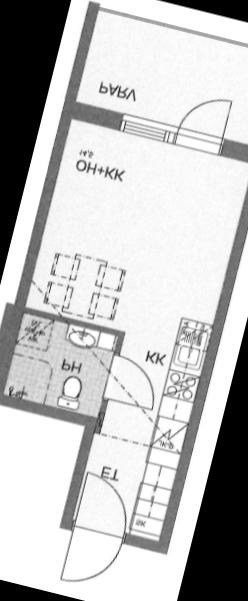door: (65, 468, 138, 540), (58, 521, 128, 592), (172, 87, 236, 158), (96, 349, 165, 413)
window: (113, 106, 177, 146)
